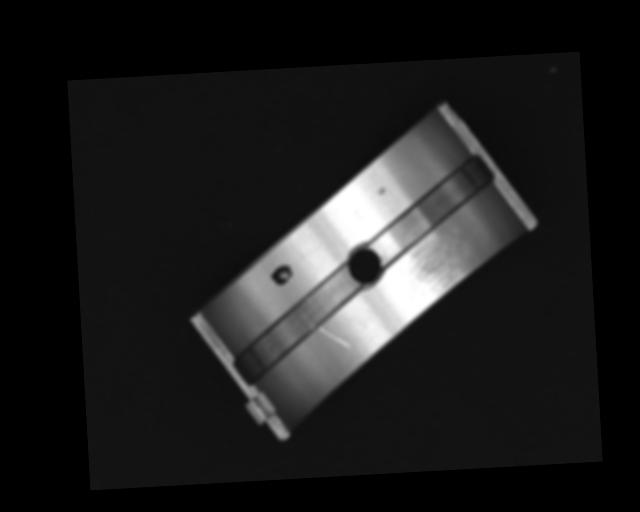blot: (269, 263, 294, 287)
bruise: (376, 187, 386, 195)
gap: (226, 266, 366, 389), (366, 153, 499, 261)
hole: (346, 241, 386, 287)
nick: (318, 323, 352, 351), (290, 240, 312, 272)
scratch: (399, 235, 474, 310)
